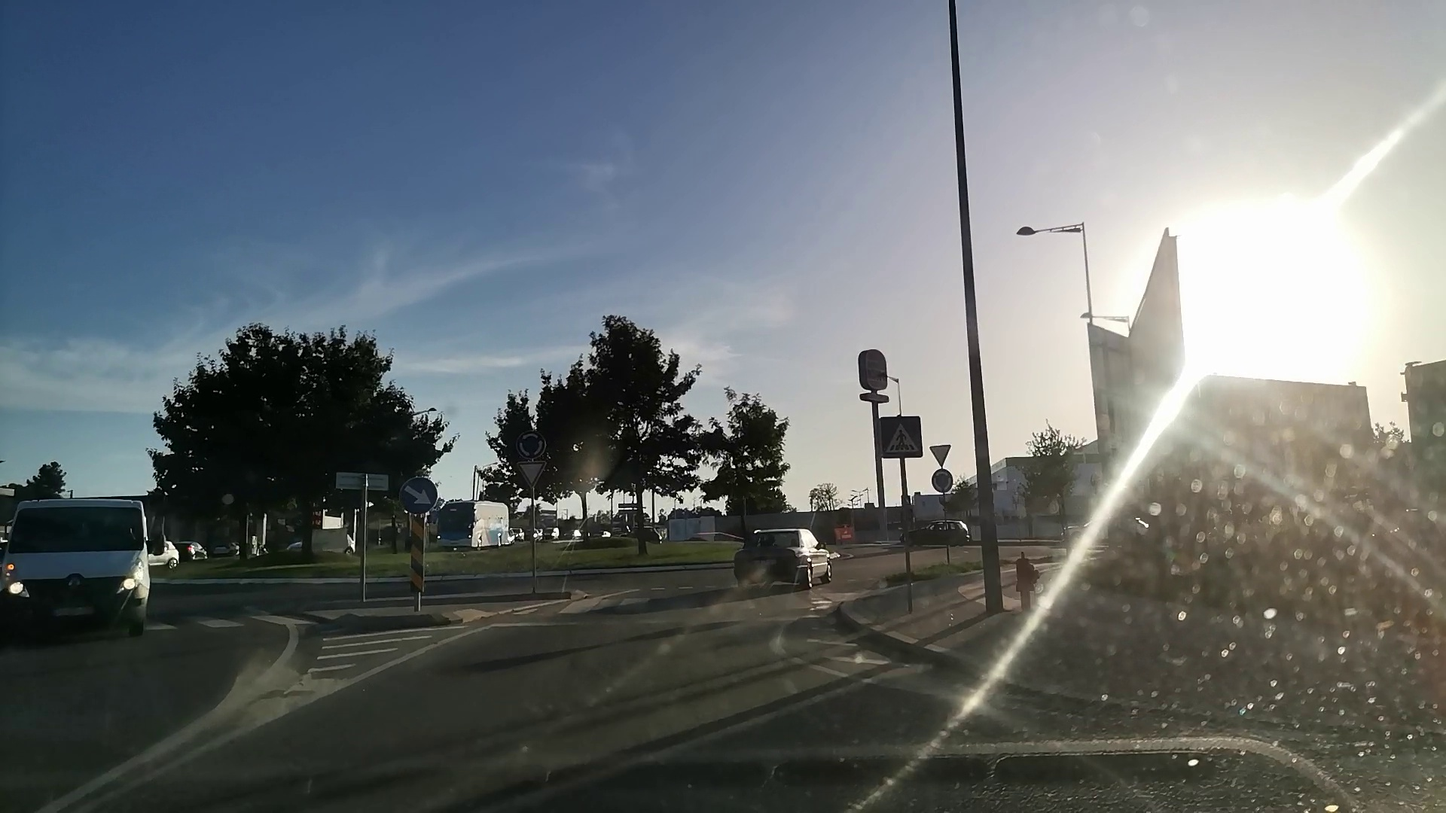Stairs: (551, 590, 813, 632), (137, 604, 316, 640)
